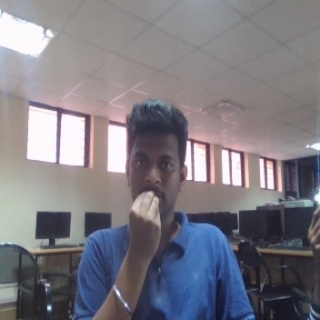Food: (125, 188, 165, 269)
